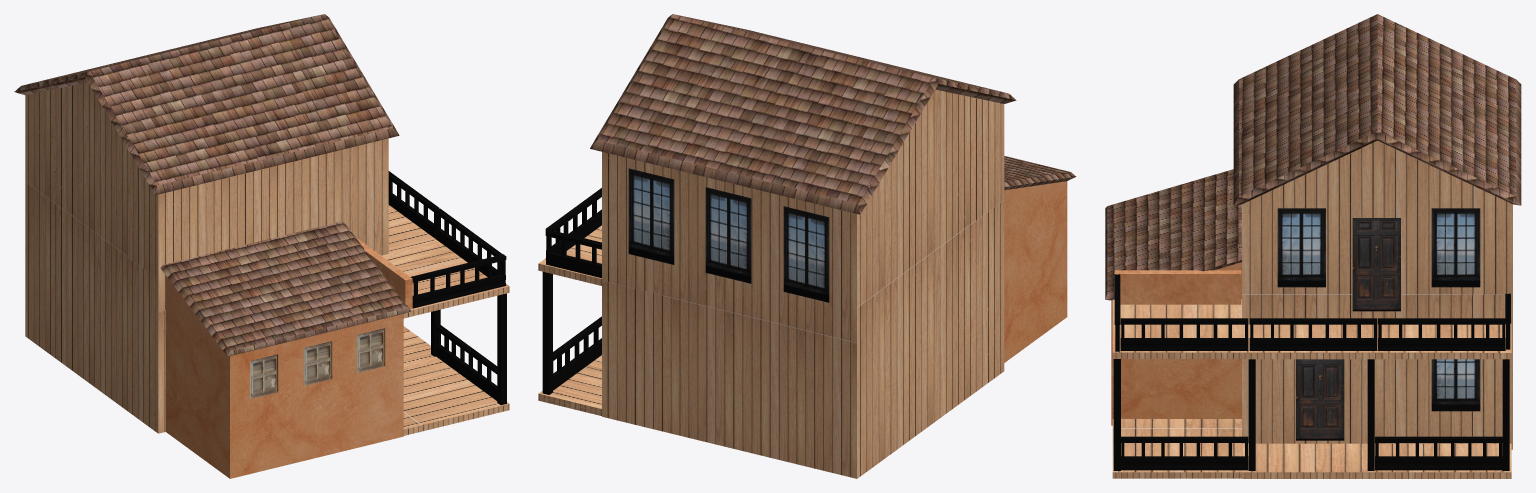
Rendered from CityHall.fbx.
3 views of the same model, side by side, from view 1: azimuth 30°, elevation 25°; view 2: azimuth 150°, elevation 25°; view 3: azimuth 270°, elevation 25° (orthographic). The views are drawn at different scales.
Parts seen in each view (by area): view 1: Cube; view 2: Cube; view 3: Cube.
Boxes of the visible parts, x1,y1,x2,y2 form: Cube: [14, 14, 509, 478]; Cube: [538, 14, 1076, 478]; Cube: [1105, 14, 1521, 478].
Size of the model in its own units: 256 by 261 by 307.
Materials: 1 (1 with a texture image).
